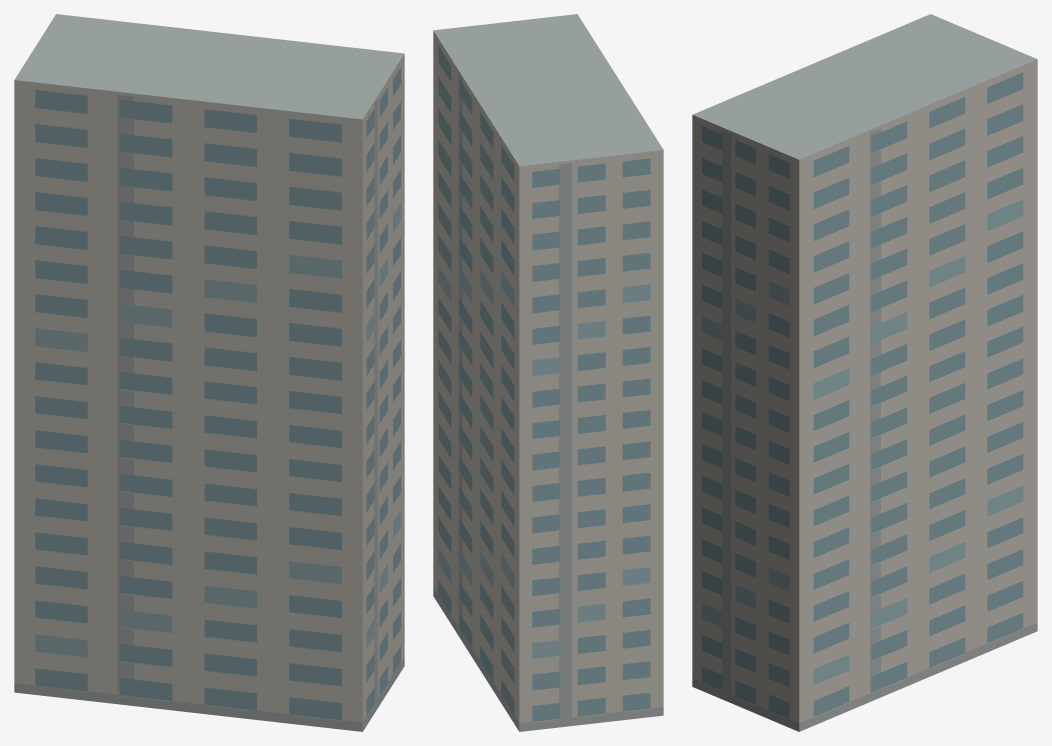
The model's file is residential-f030df4d-1dc8-4704-854f-640bc8ce87ff.glb.
The picture shows the model from 3 angles, left to right: view 1: azimuth 30°, elevation 25°; view 2: azimuth 150°, elevation 25°; view 3: azimuth 270°, elevation 25°; orthographic projection. The views are drawn at different scales.
Visible parts, largest first — view 1: residential-f030df4d-1dc8-4704-854f-640bc8ce87ff.tmp; view 2: residential-f030df4d-1dc8-4704-854f-640bc8ce87ff.tmp; view 3: residential-f030df4d-1dc8-4704-854f-640bc8ce87ff.tmp.
Part boxes in pixels (x1,y1,x2,y2): residential-f030df4d-1dc8-4704-854f-640bc8ce87ff.tmp: [14, 14, 404, 731]; residential-f030df4d-1dc8-4704-854f-640bc8ce87ff.tmp: [433, 14, 663, 731]; residential-f030df4d-1dc8-4704-854f-640bc8ce87ff.tmp: [692, 14, 1037, 731].
Bounding box in the file's own units: 26.25 × 48 × 26.25.
